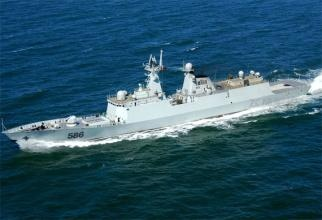warship: (8, 51, 313, 150)
